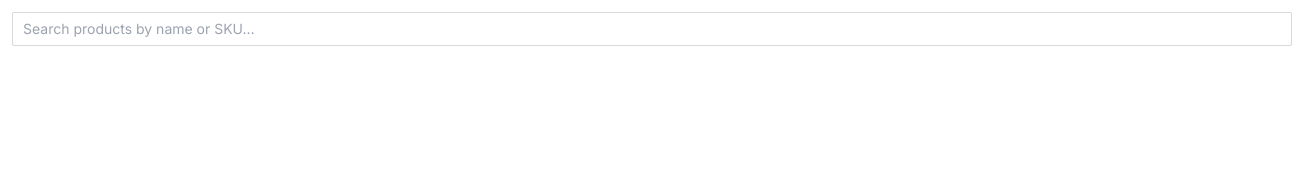
Test: ProductCombobox › calls onSelect with the chosen product and clears the input
Step 1. Type "copper" into the field with placeholder "Search products by name or SKU…" → (652,29), box [12,12,1292,46]
Wait 300 ms
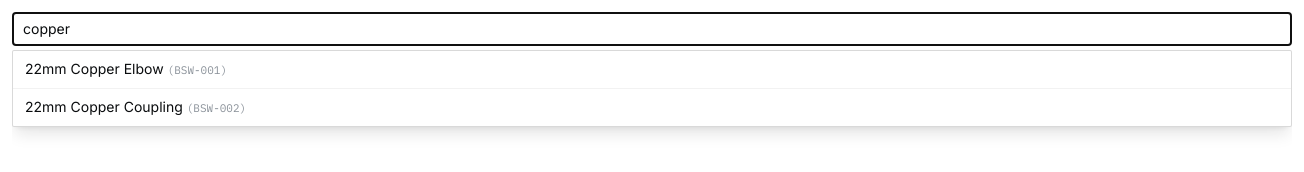
Expected: the button "22mm Copper Elbow (BSW-001)" is shown
Step 2. Click the button "22mm Copper Elbow (BSW-001)" → (94,68), box [13,51,1291,89]
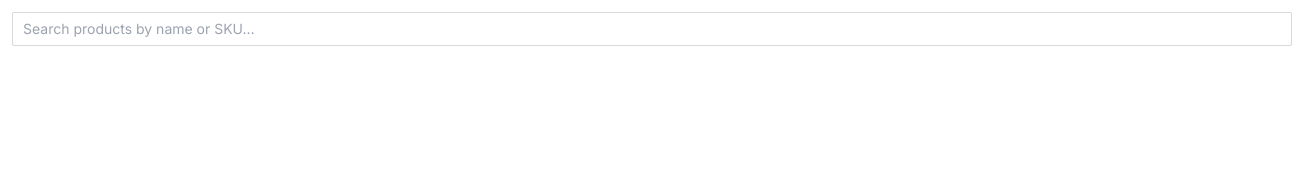
Expected: the field with placeholder "Search products by name or SKU…" is empty, [12,12,1292,46]
